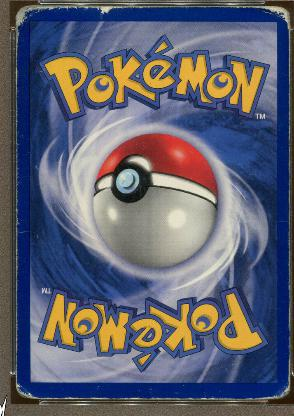Card: (11, 0, 291, 406)
Corner Wear: (262, 3, 291, 30), (12, 2, 34, 26), (14, 376, 35, 400), (271, 378, 289, 400)
Edge Wear: (28, 5, 268, 15), (14, 25, 17, 383), (40, 396, 272, 400), (286, 183, 289, 382), (285, 28, 289, 156)
Scratch: (273, 218, 288, 224), (16, 229, 30, 235), (147, 386, 153, 394), (38, 68, 46, 74)
